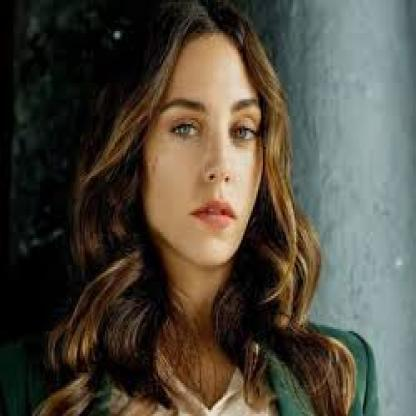person: (120, 15, 286, 273)
